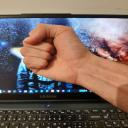Fist: (21, 22, 86, 87)
